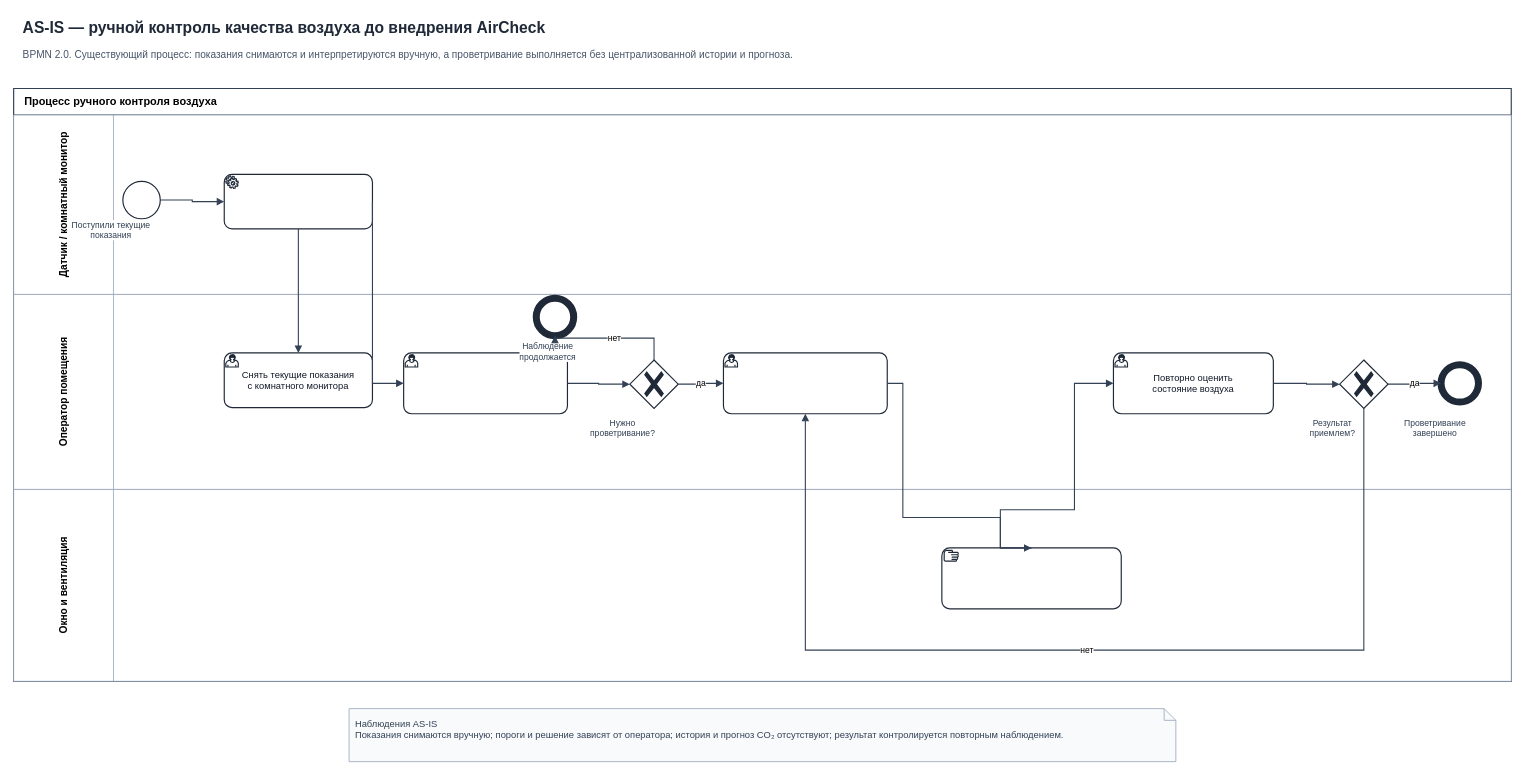
Image size: 1526x775. Some labels were removed from this diagram. Here are the shapes that lost their labels. From the top down, the centre of each, then its label:
At point (298, 201): "Отобразить текущие показания на комнатном мониторе".
At point (485, 383): "Сопоставить показатели с привычными порогами".
At point (805, 383): "Принять решение о проветривании".
At point (1031, 578): "Открыть окно / включить вентиляцию вручную".
